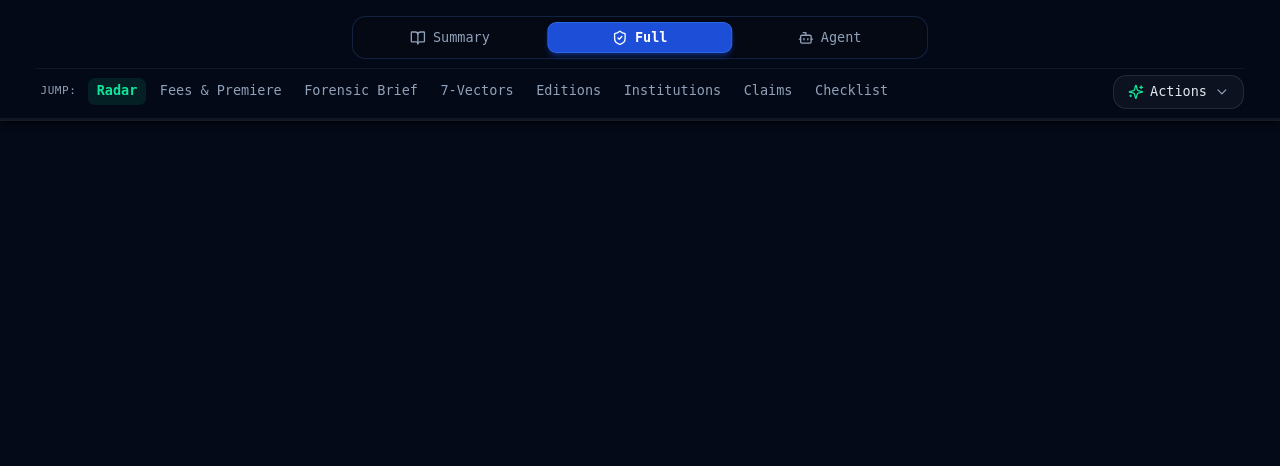
Test: DossierStickyNav Component › opens Actions dropdown when Actions button is clicked
Step 1. Click the button "Actions" → (1179, 92), box x1=1113 y1=76 x2=1244 y2=109
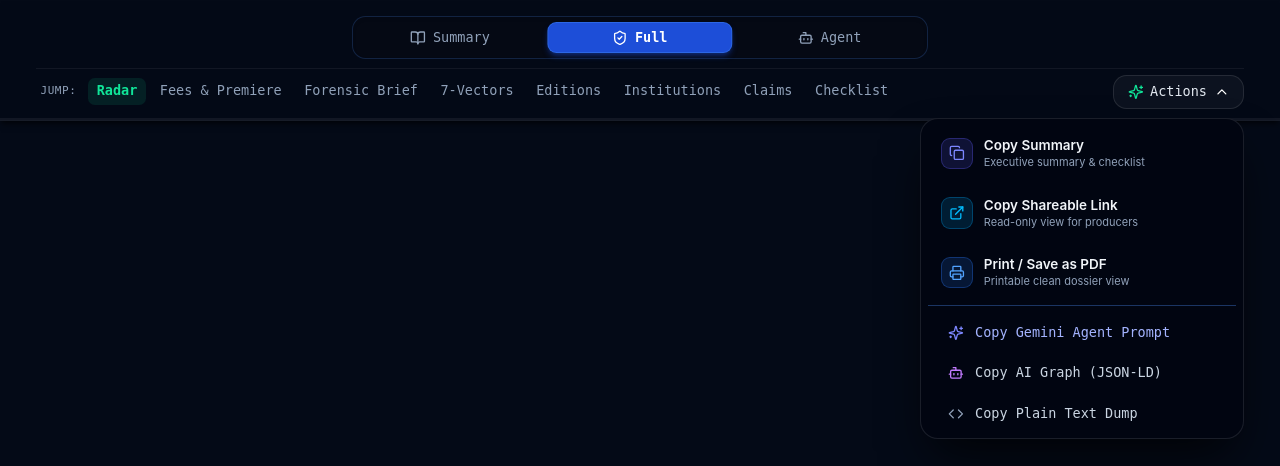
Check: the text "Copy Summary" is shown, box x1=984 y1=137 x2=1084 y2=153
Check: the text "Copy Shareable Link" is shown, box x1=984 y1=197 x2=1138 y2=215
Check: the text "Print / Save as PDF" is shown, box x1=984 y1=256 x2=1107 y2=272
